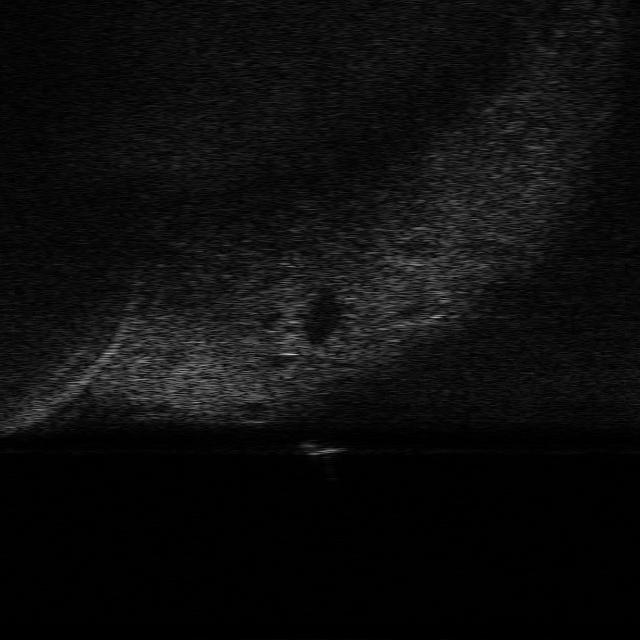cube: (295, 435, 345, 457)
